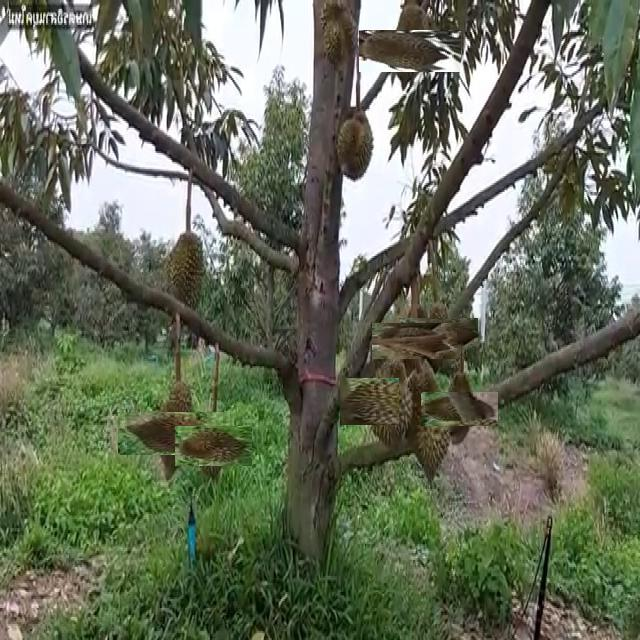durian: (399, 354, 451, 492), (135, 394, 213, 472), (353, 364, 427, 438), (374, 15, 446, 88), (165, 226, 208, 328), (384, 310, 446, 372), (185, 417, 243, 475), (334, 108, 375, 188), (432, 381, 488, 437), (412, 305, 466, 359)
